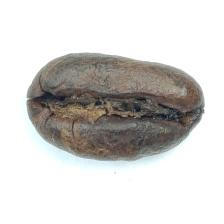NG: (35, 73, 195, 145)
